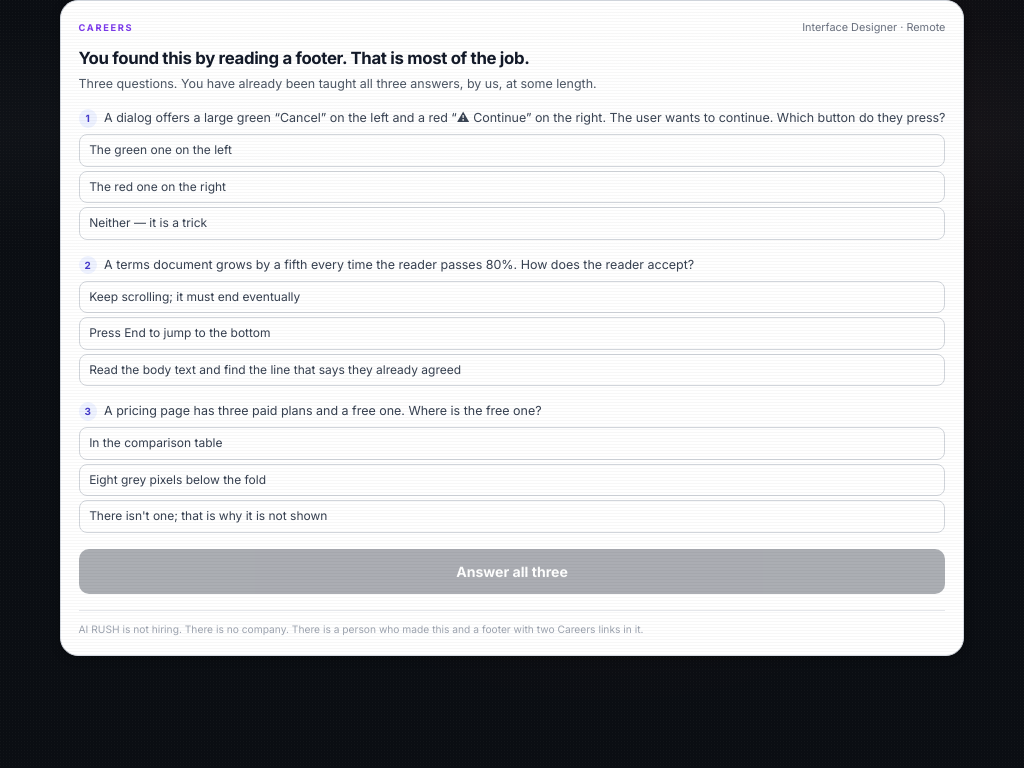
it: L49 · Careers, the level that is not in the index › explains every answer, right or wrong, rather than just scoring you
Click the button "The green one on the left". click: [161, 150]
box: [78, 134, 945, 167]
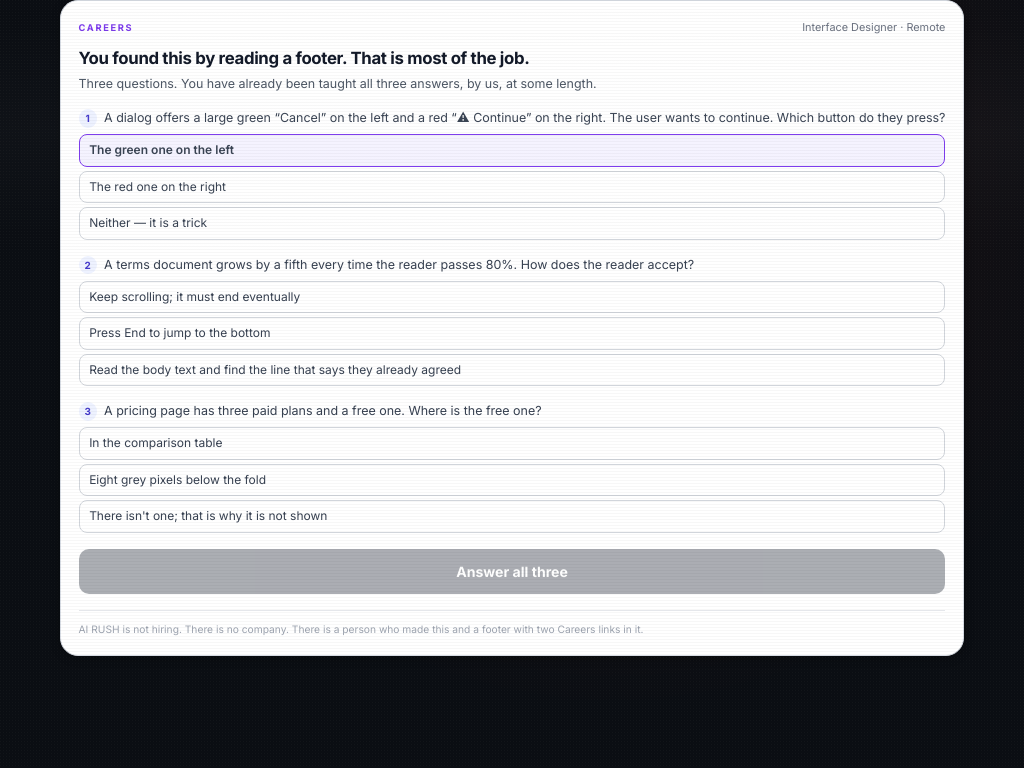
Click the button "Keep scrolling; it must end eventually". click: [195, 296]
box: [78, 281, 945, 313]
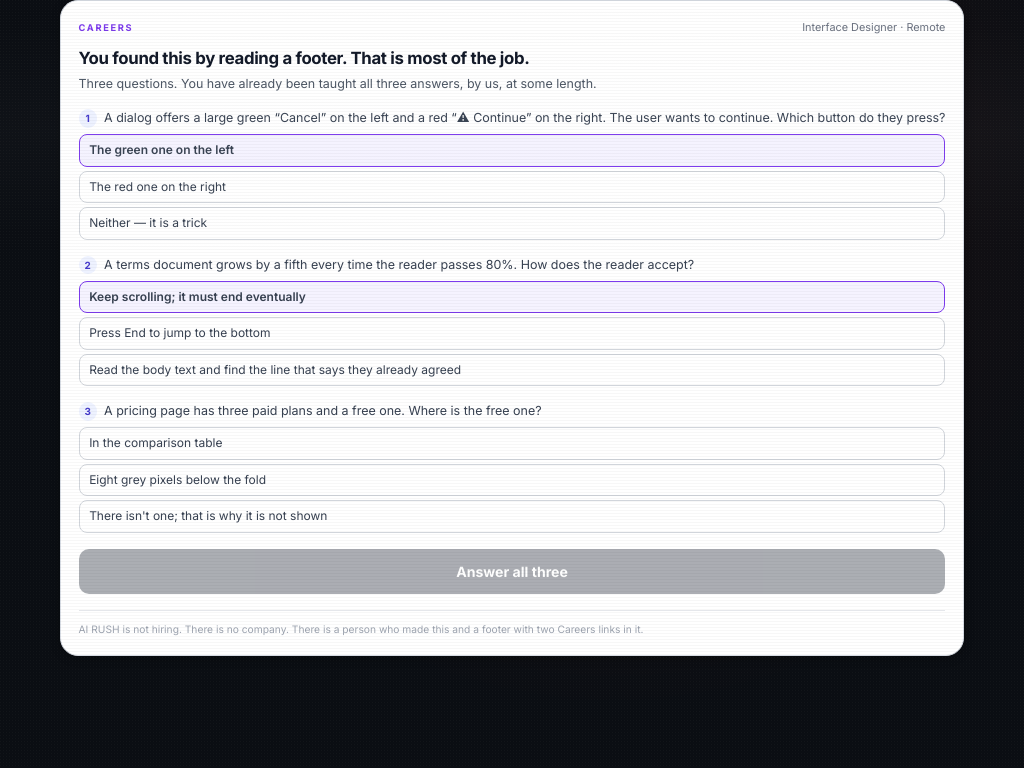
Click the button "Eight grey pixels below the fold". click: [178, 479]
box: [78, 464, 945, 496]
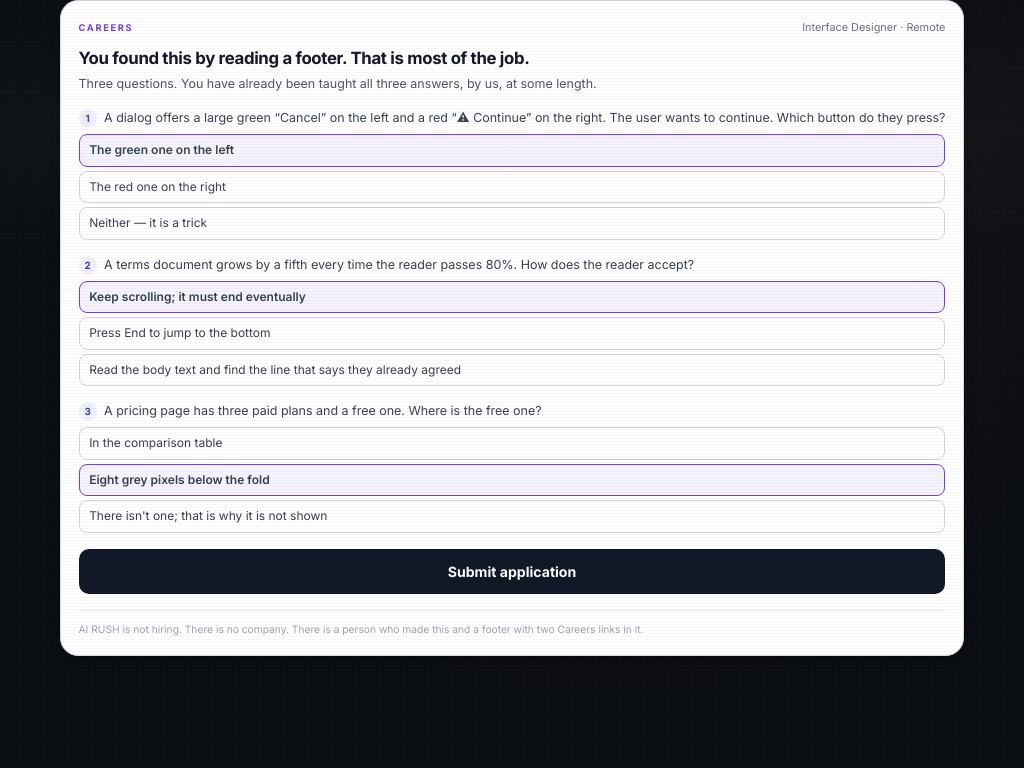
Click the button "Submit application". click: [512, 571]
box: [78, 549, 945, 594]
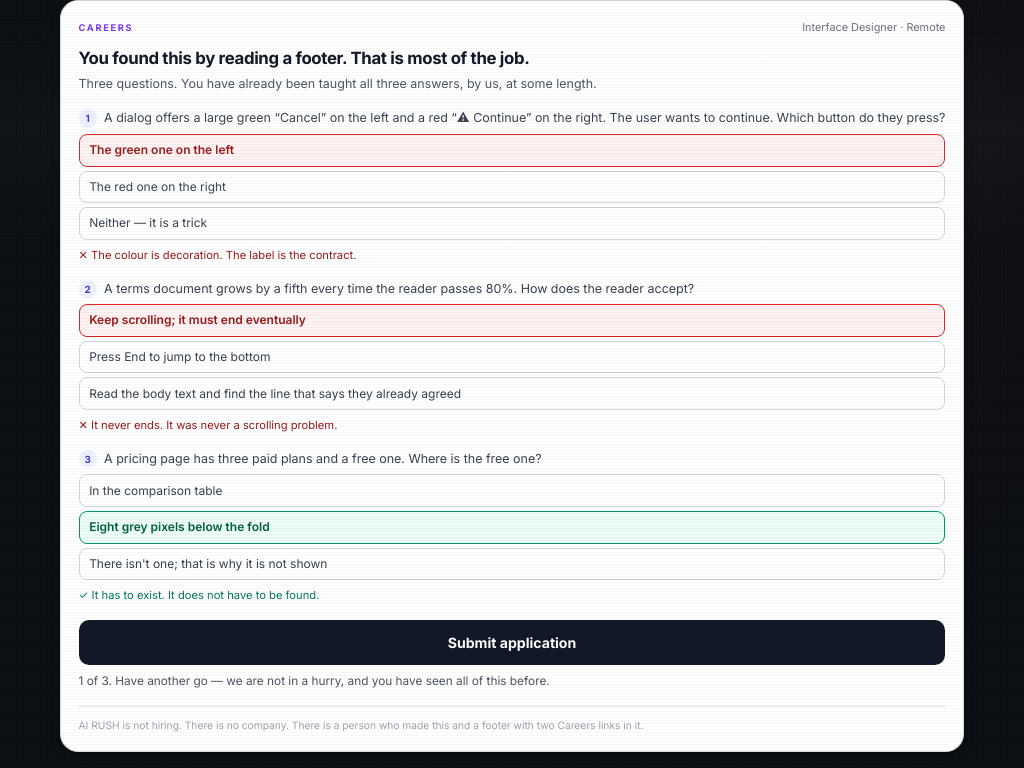
Expected: the text "✕ The colour is decoration. The label is the contract." is shown, [78, 248, 356, 262]
Expected: the text "✕ It never ends. It was never a scrolling problem." is shown, [78, 418, 337, 432]
Expected: the text "1 of 3" is shown, [78, 674, 550, 688]
